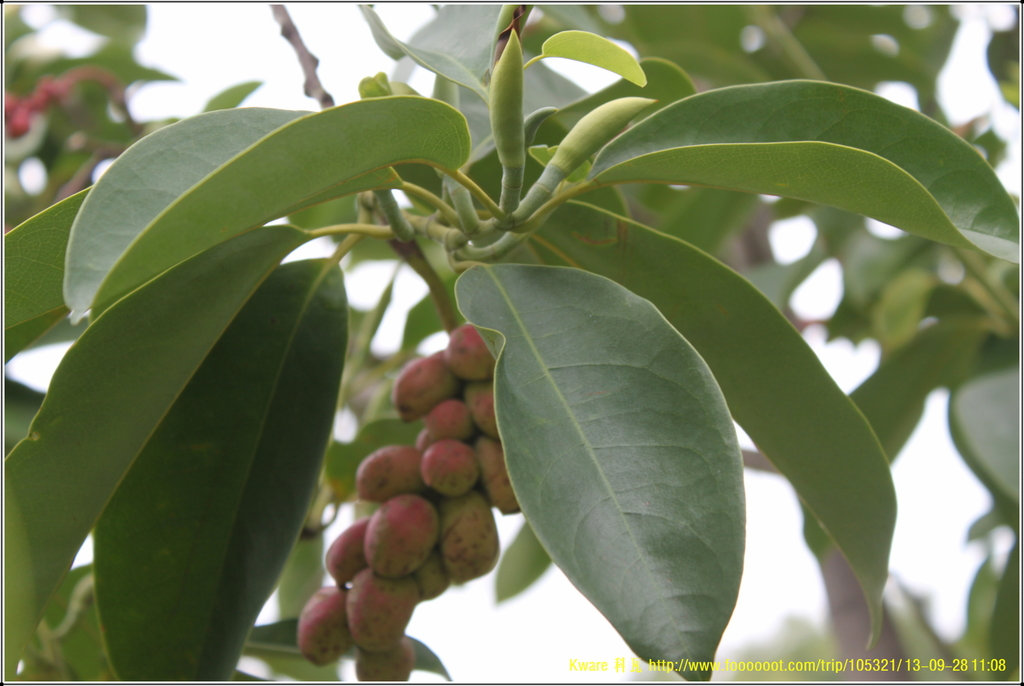Tree: (4, 4, 1019, 681)
